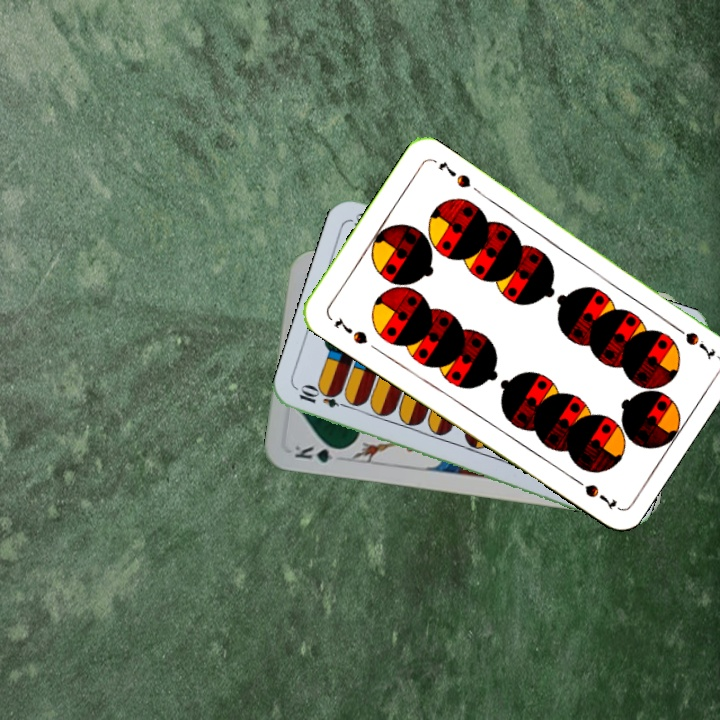E10: (294, 383, 354, 412)
GK: (290, 441, 348, 466)
S7: (667, 320, 718, 361), (330, 313, 370, 347)
